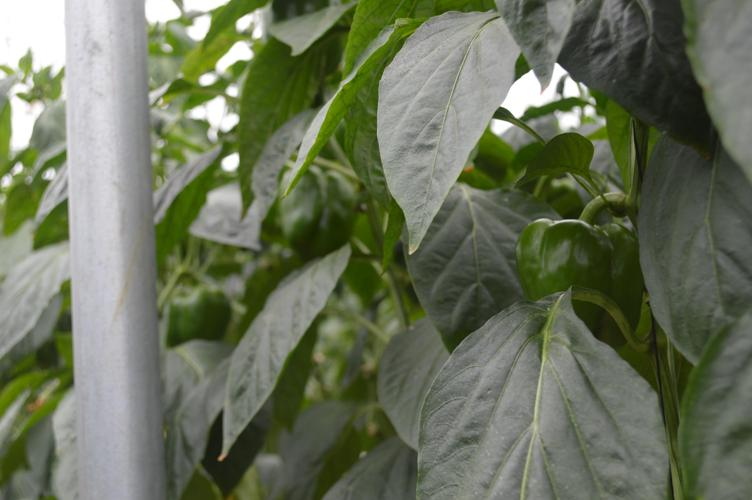BellPepper: (512, 220, 646, 347), (271, 163, 354, 255), (162, 284, 233, 350)
